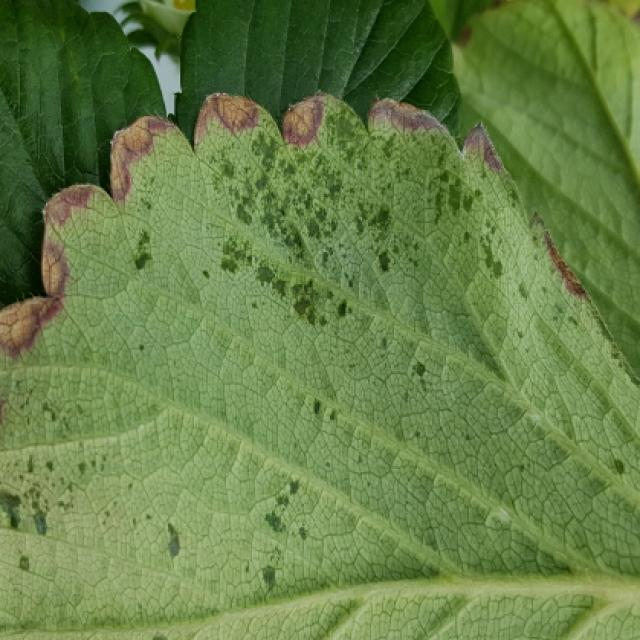Angular Leafspot: (2, 90, 640, 638)
